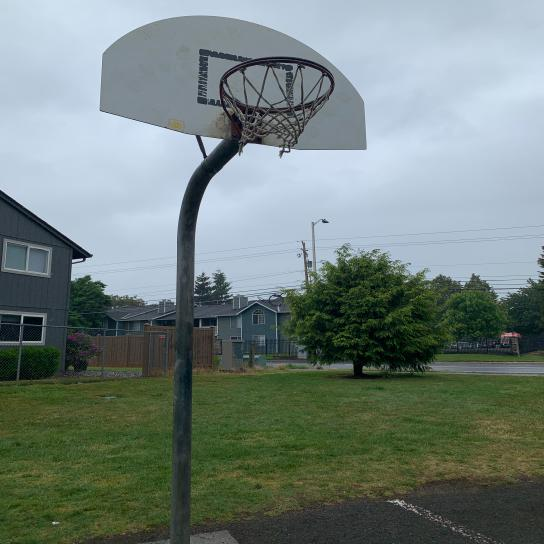basketball-hoop: (217, 54, 337, 160)
